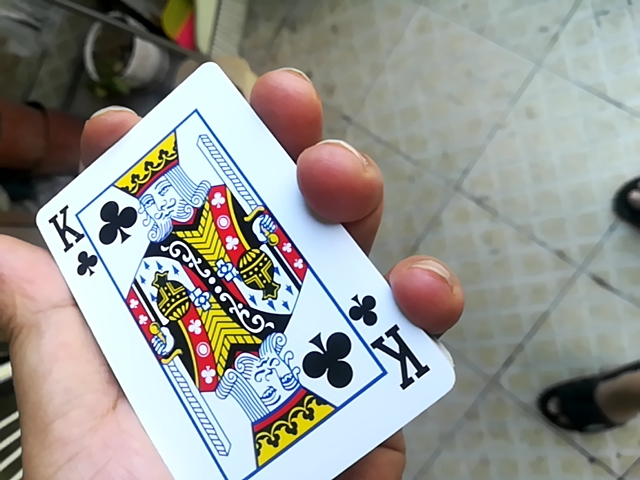mh k: (15, 51, 440, 478)
